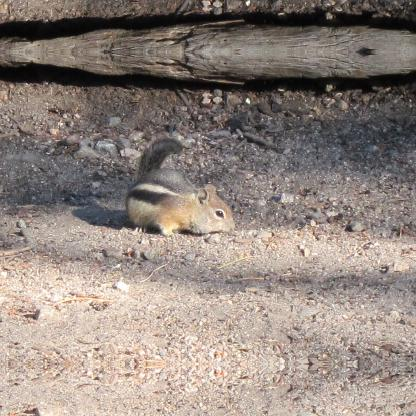Squirrel: (124, 137, 234, 235)
